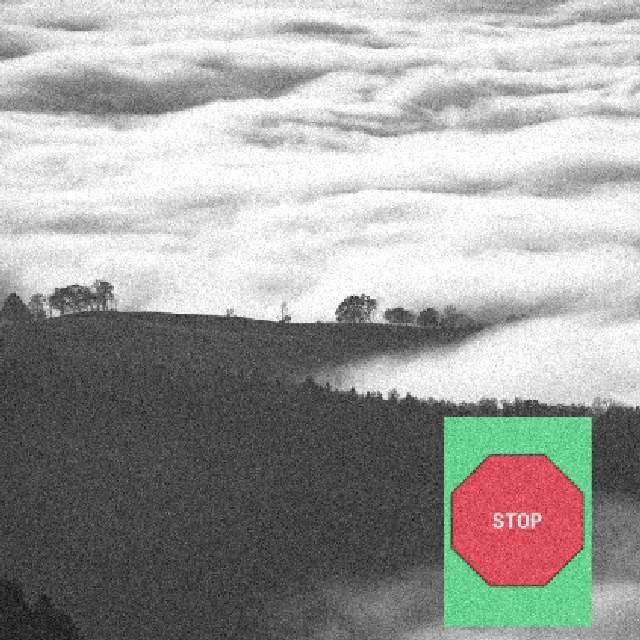STOP: (450, 453, 582, 585)
